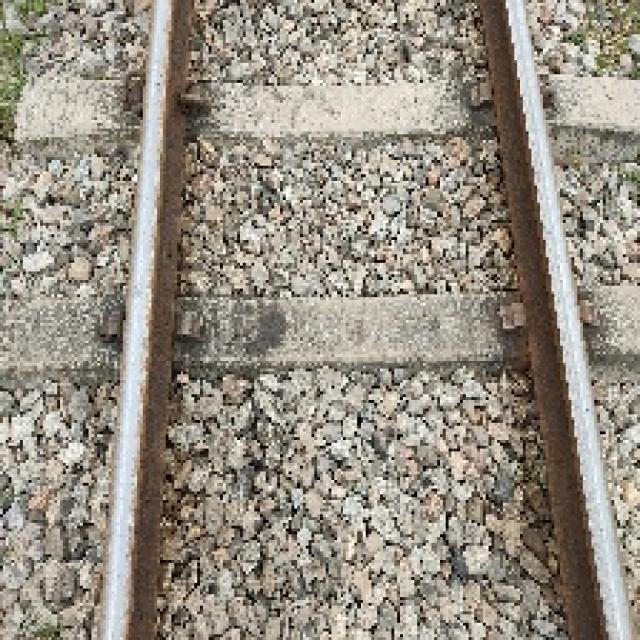Good Fasteners: (108, 73, 153, 120), (173, 79, 218, 118)
Missing Fastener: (490, 303, 545, 341), (173, 304, 210, 353), (92, 307, 132, 338), (468, 77, 502, 108)
